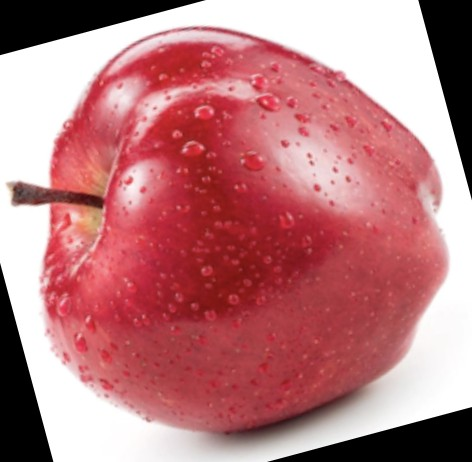fresh_apple: (41, 26, 452, 430)
